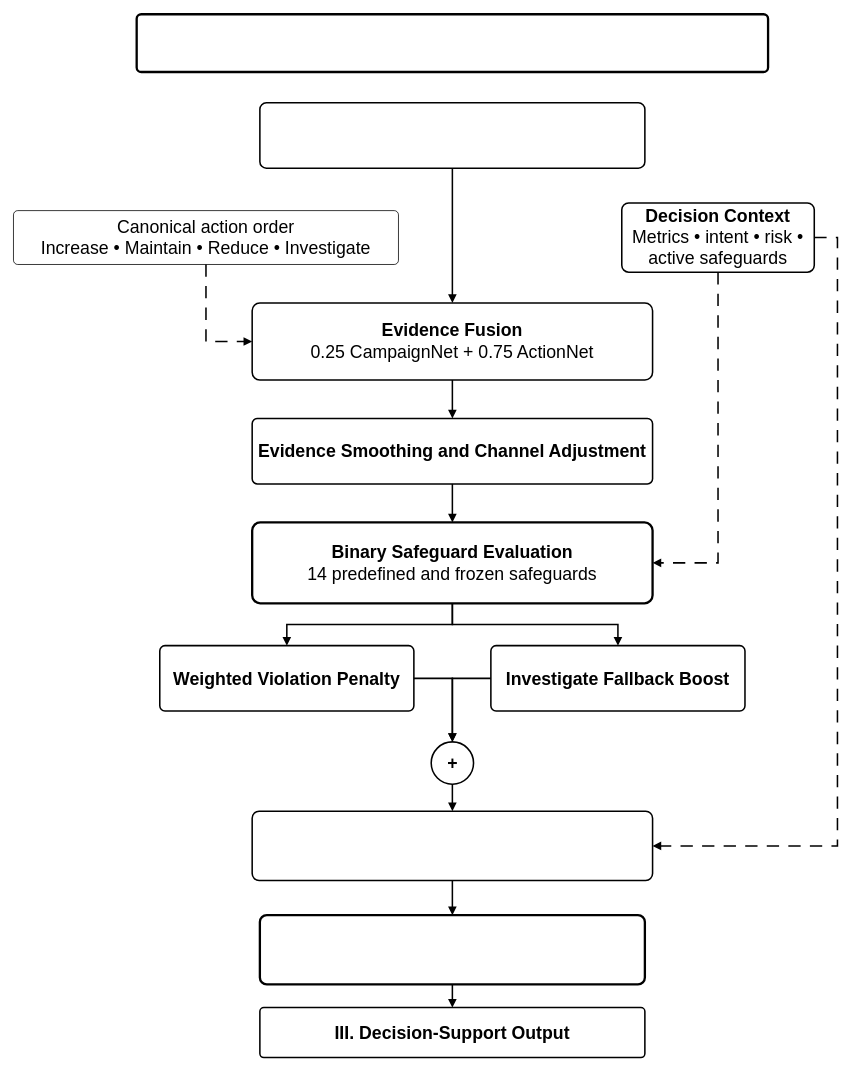
Image size: 858x1072. Some labels were removed from this diagram. The box of each missing label's shape, as (x1, y1, x2, y2) in pixels:
Final Action-Score Vector: (258, 914, 646, 985)
II. NEURO-SYMBOLIC DECISION LOGIC: (135, 13, 769, 73)
Intent and Risk Adjustment: (251, 810, 653, 881)
Learned Evidence Package: (259, 102, 645, 169)
